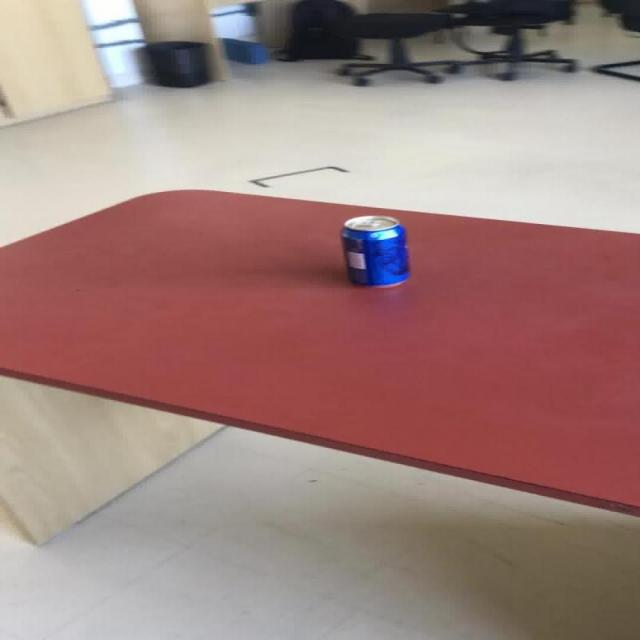Tonic: (338, 214, 409, 287)
